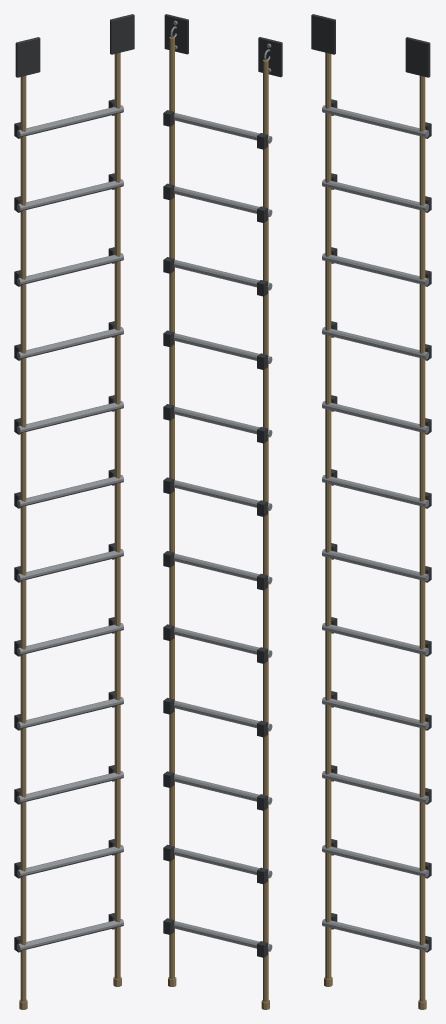
File: prop_ladder_rope_h400.glb
3 renders of one model, left to right at view 1: azimuth 30°, elevation 25°; view 2: azimuth 150°, elevation 25°; view 3: azimuth 330°, elevation 25°, orthographic.
Parts seen in each view (by area): view 1: Rails; view 2: Rails; view 3: Rails.
Part boxes in pixels (x1,y1,x2,y2): Rails: [14, 14, 134, 1009]; Rails: [163, 14, 282, 1009]; Rails: [311, 14, 431, 1009].
Size of the model in its own units: 0.5 by 3.94 by 0.08.
